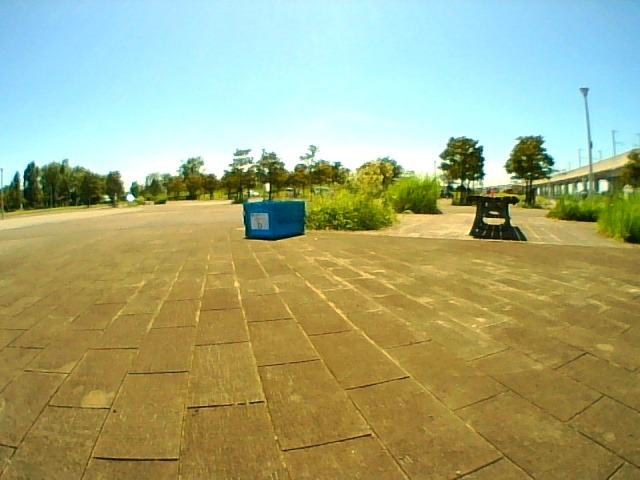blue_box: (245, 202, 305, 238)
tag_b: (251, 214, 268, 229)
